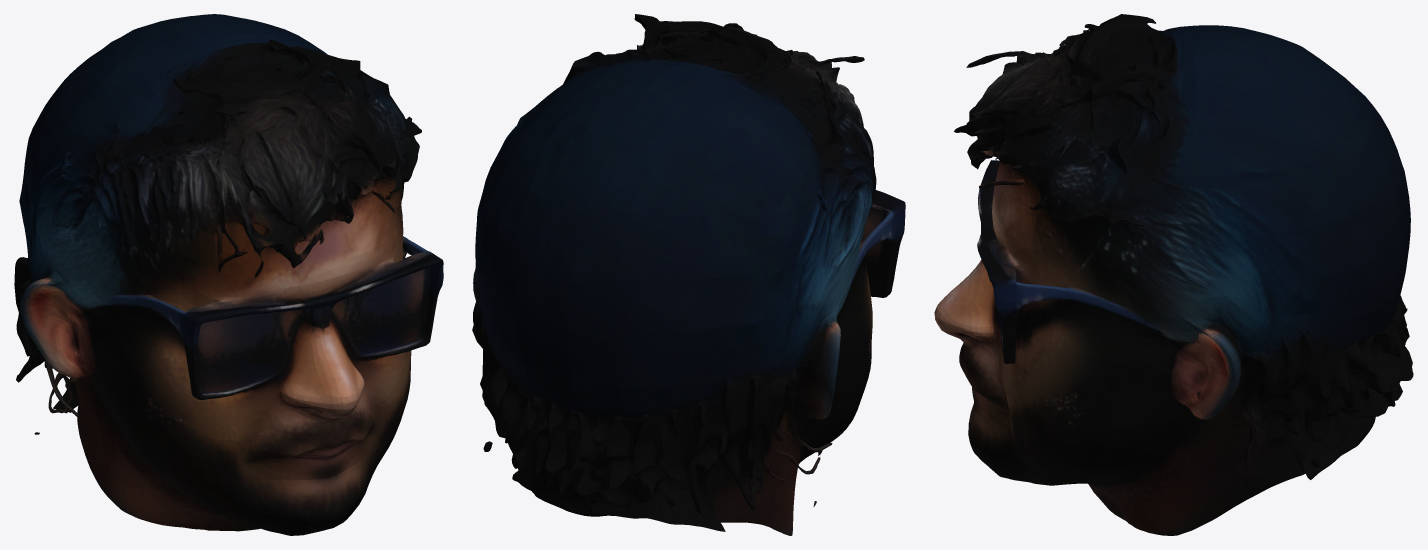
File: samyak_head.glb
The picture shows the model from 3 angles, left to right: view 1: azimuth 30°, elevation 25°; view 2: azimuth 150°, elevation 25°; view 3: azimuth 270°, elevation 25°; orthographic projection. The views are drawn at different scales.
Parts seen in each view (by area): view 1: geometry_0; view 2: geometry_0; view 3: geometry_0.
Boxes of the visible parts, x1,y1,x2,y2 form: geometry_0: [14, 14, 443, 535]; geometry_0: [472, 14, 905, 535]; geometry_0: [934, 14, 1413, 535].
Size of the model in its own units: 0.5649 by 0.697 by 0.6577.
1 material, 1 textured.
